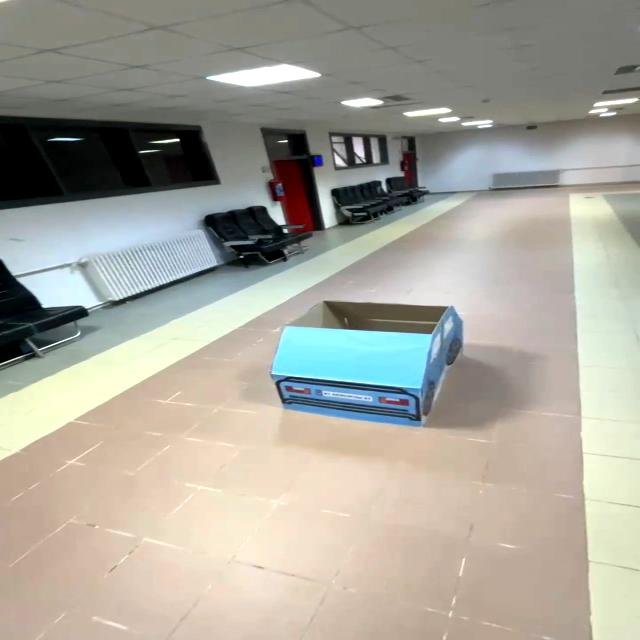blue_car: (256, 293, 476, 437)
